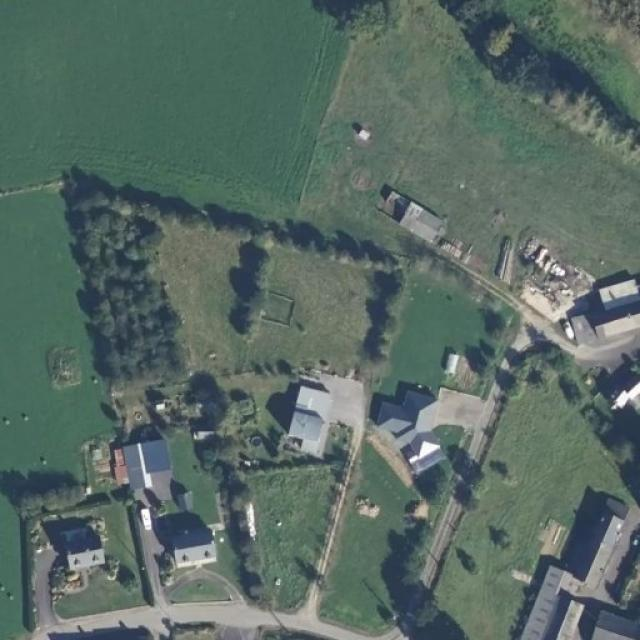maison: (563, 262, 640, 399), (374, 372, 453, 478), (376, 190, 455, 241), (110, 435, 170, 497), (282, 382, 330, 448), (170, 519, 217, 570), (62, 531, 102, 575)
usine: (517, 499, 640, 640)
